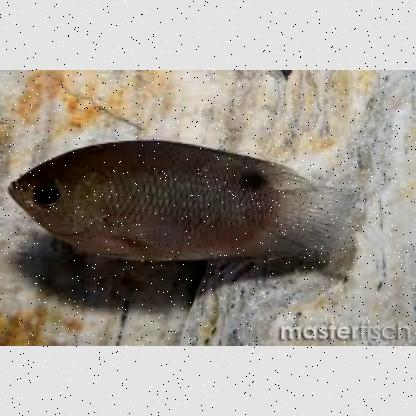gurame: (7, 141, 348, 267)
